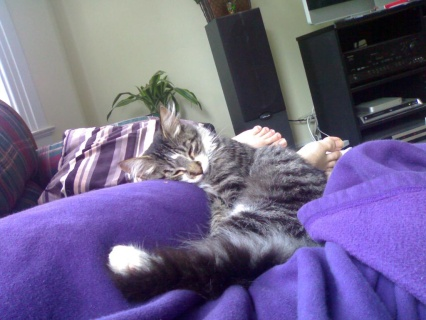Cat: (104, 102, 328, 304)
